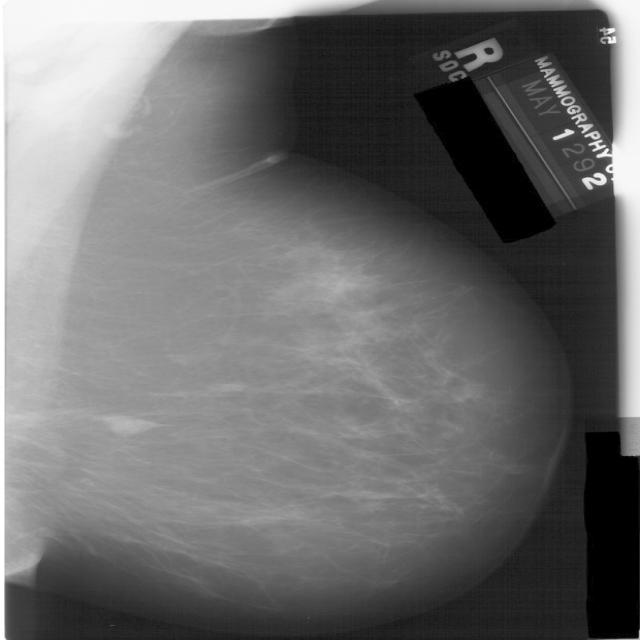tumour: (101, 414, 160, 436)
